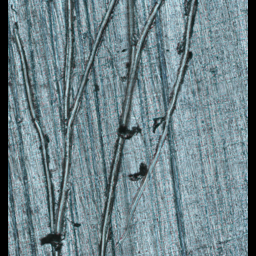d: (9, 0, 208, 256)
